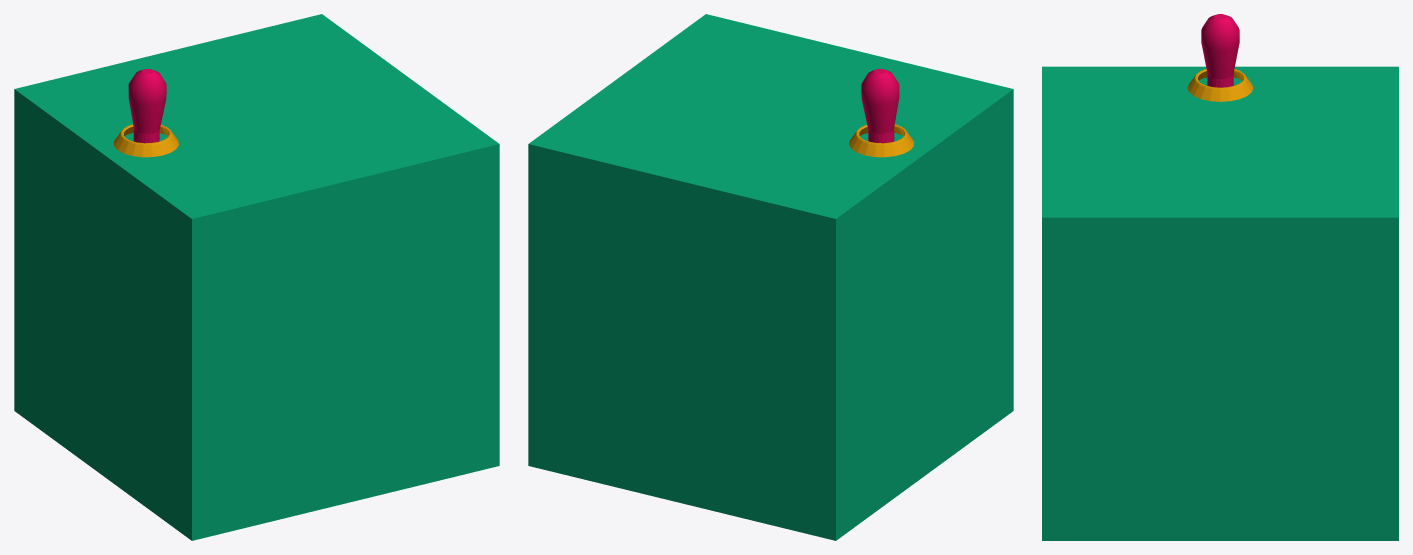
The model's file is UselessBox_v5.fbx.
3 renders of one model, left to right at view 1: azimuth 30°, elevation 25°; view 2: azimuth 150°, elevation 25°; view 3: azimuth 270°, elevation 25°, orthographic.
Parts seen in each view (by area): view 1: pCube7, pCube2, pCylinder1; view 2: pCube7, pCube2, pCylinder1; view 3: pCube7, pCube2, pCylinder1.
Part boxes in pixels (box(x1,y1,x2,y2)): pCube7: box(14, 14, 499, 540); pCube2: box(102, 15, 495, 196); pCylinder1: box(128, 69, 166, 143); pCube7: box(528, 14, 1013, 540); pCube2: box(532, 15, 925, 196); pCylinder1: box(861, 69, 899, 143); pCube7: box(1042, 66, 1398, 540); pCube2: box(1044, 109, 1396, 216); pCylinder1: box(1201, 14, 1239, 87).
Bounding box in the file's own units: 14.64 × 17.91 × 14.64.
